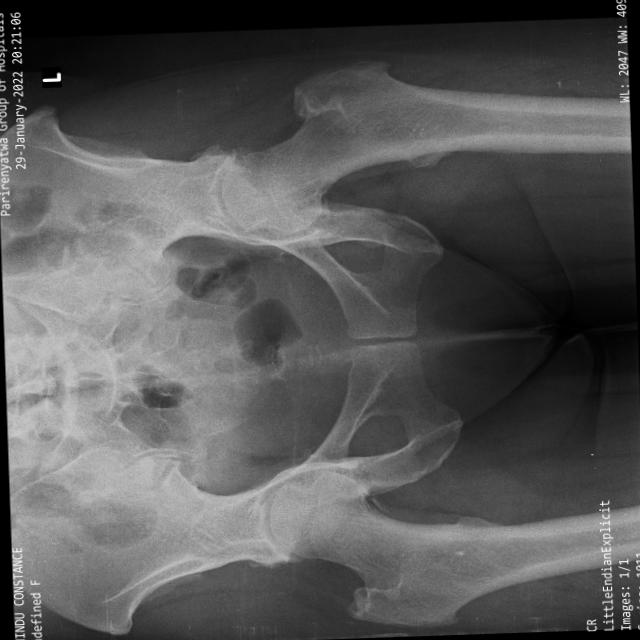normal-left: (221, 59, 576, 233)
normal-right: (268, 469, 596, 625)
